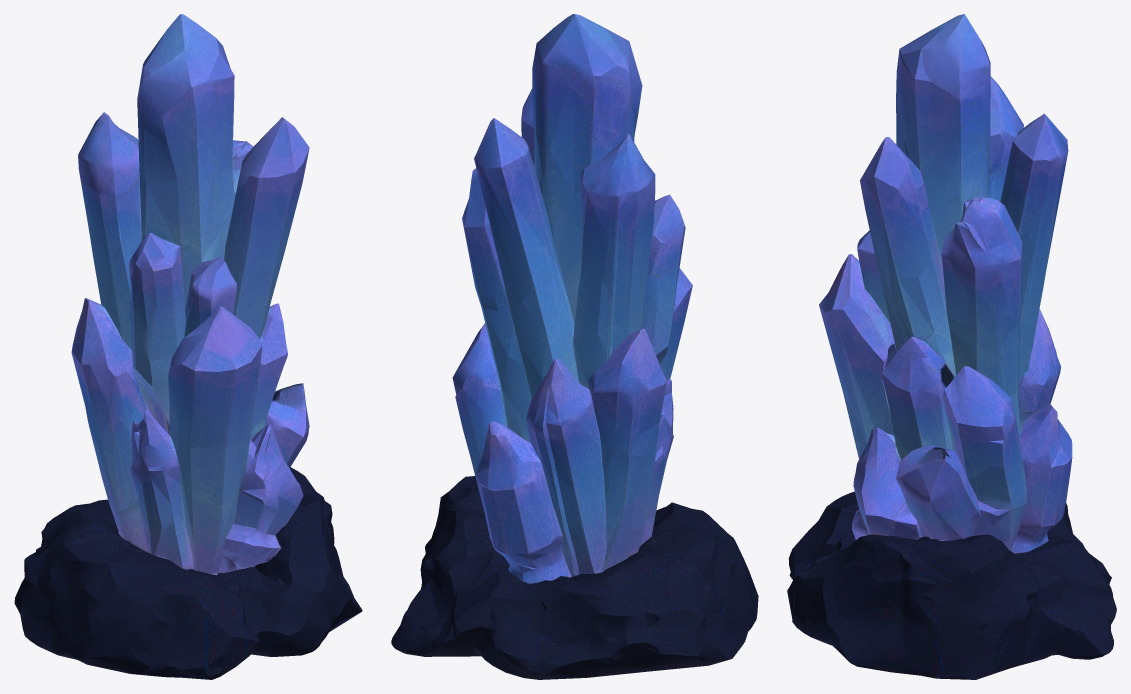
Rendered from p_crystal.glb.
The picture shows the model from 3 angles, left to right: view 1: azimuth 30°, elevation 25°; view 2: azimuth 150°, elevation 25°; view 3: azimuth 270°, elevation 25°; orthographic projection. The views are drawn at different scales.
Bounding box in the file's own units: 1 × 1.9 × 0.9554.
Materials: 1 (1 with a texture image).
